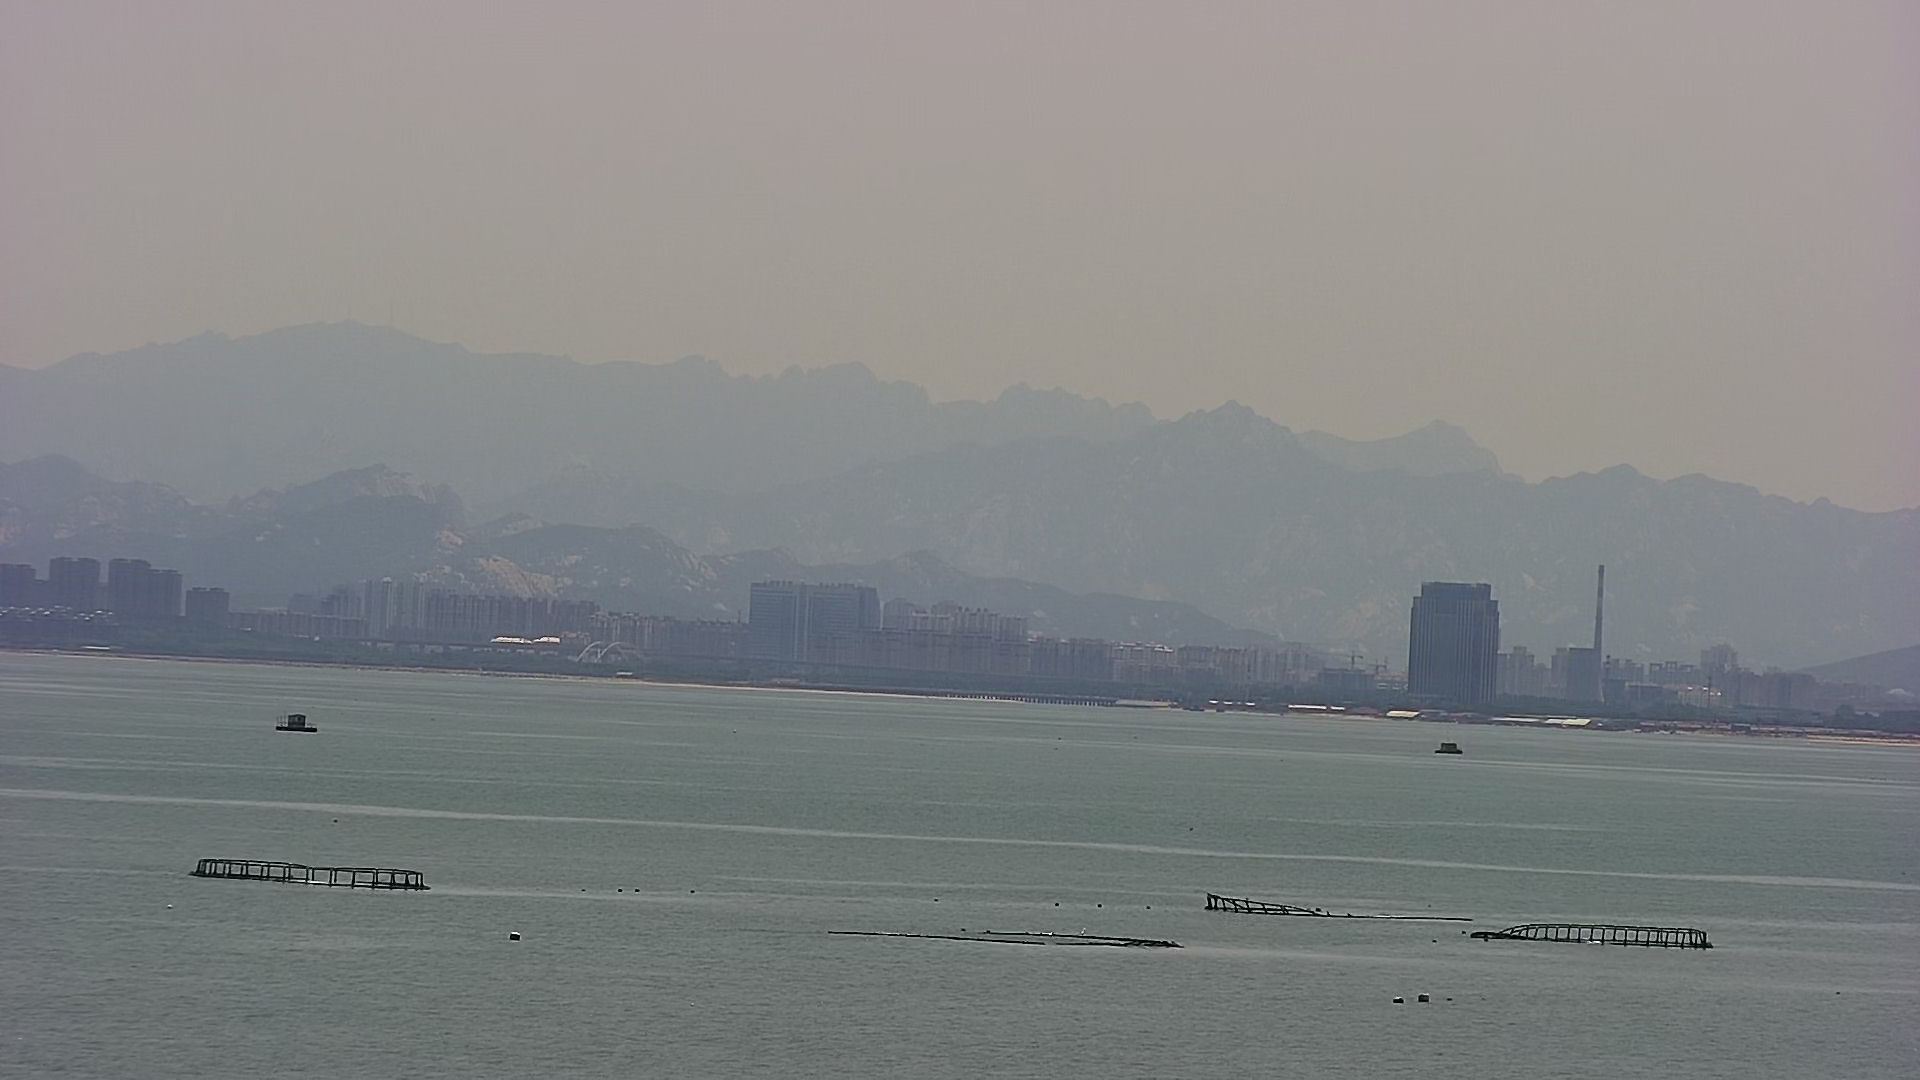ball: (1429, 735, 1466, 760)
platform: (189, 856, 425, 891), (274, 709, 319, 735)
rubbish: (1208, 885, 1716, 953), (822, 926, 1180, 953)
